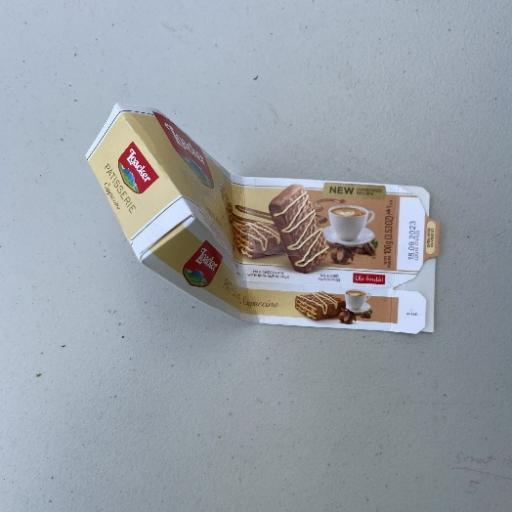Cardboard: (84, 103, 442, 336), (267, 182, 330, 274)
